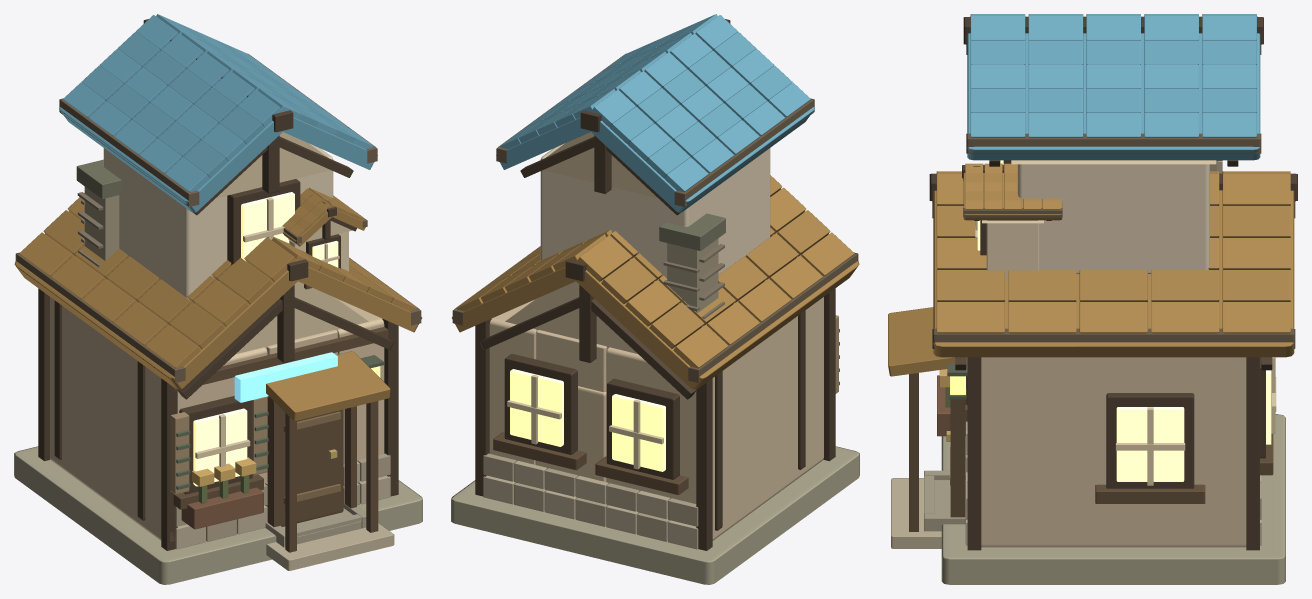
The model's file is workshop-1-3.glb.
The picture shows the model from 3 angles, left to right: view 1: azimuth 30°, elevation 25°; view 2: azimuth 150°, elevation 25°; view 3: azimuth 270°, elevation 25°; orthographic projection. The views are drawn at different scales.
Parts seen in each view (by area): view 1: workshop-3-1, door-hinge; view 2: workshop-3-1; view 3: workshop-3-1.
Boxes of the visible parts, left/top/right/bottom form: workshop-3-1: left=14, top=14, right=422, bottom=584; door-hinge: left=280, top=407, right=343, bottom=526; workshop-3-1: left=451, top=14, right=859, bottom=584; workshop-3-1: left=888, top=14, right=1297, bottom=584.
Size of the model in its own units: 1.88 by 3 by 2.24.
